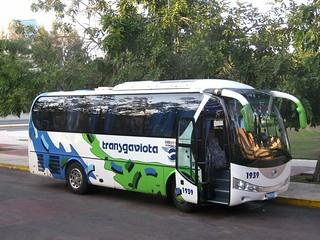bus: (23, 74, 307, 210)
